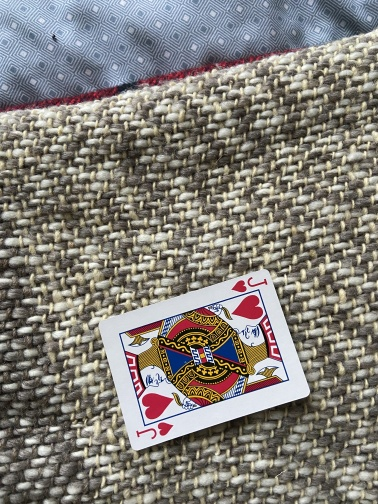jack: (97, 268, 312, 453)
